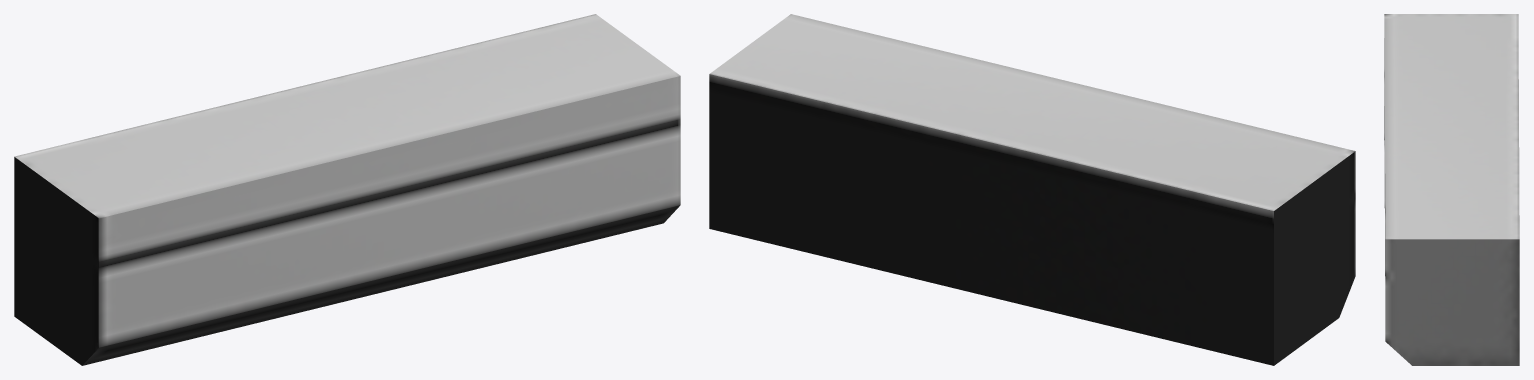
Rendered from Tx_Props_AirCond_MusicDept.fbx.
The picture shows the model from 3 angles, left to right: view 1: azimuth 30°, elevation 25°; view 2: azimuth 150°, elevation 25°; view 3: azimuth 270°, elevation 25°; orthographic projection. The views are drawn at different scales.
Parts seen in each view (by area): view 1: polySurface65; view 2: polySurface65; view 3: polySurface65.
Part boxes in pixels (<box>): polySurface65: <box>14,14,680,365</box>; polySurface65: <box>709,14,1355,365</box>; polySurface65: <box>1384,14,1519,365</box>.
Size of the model in its own units: 6.72 by 1.76 by 1.7.
1 material, 1 textured.
